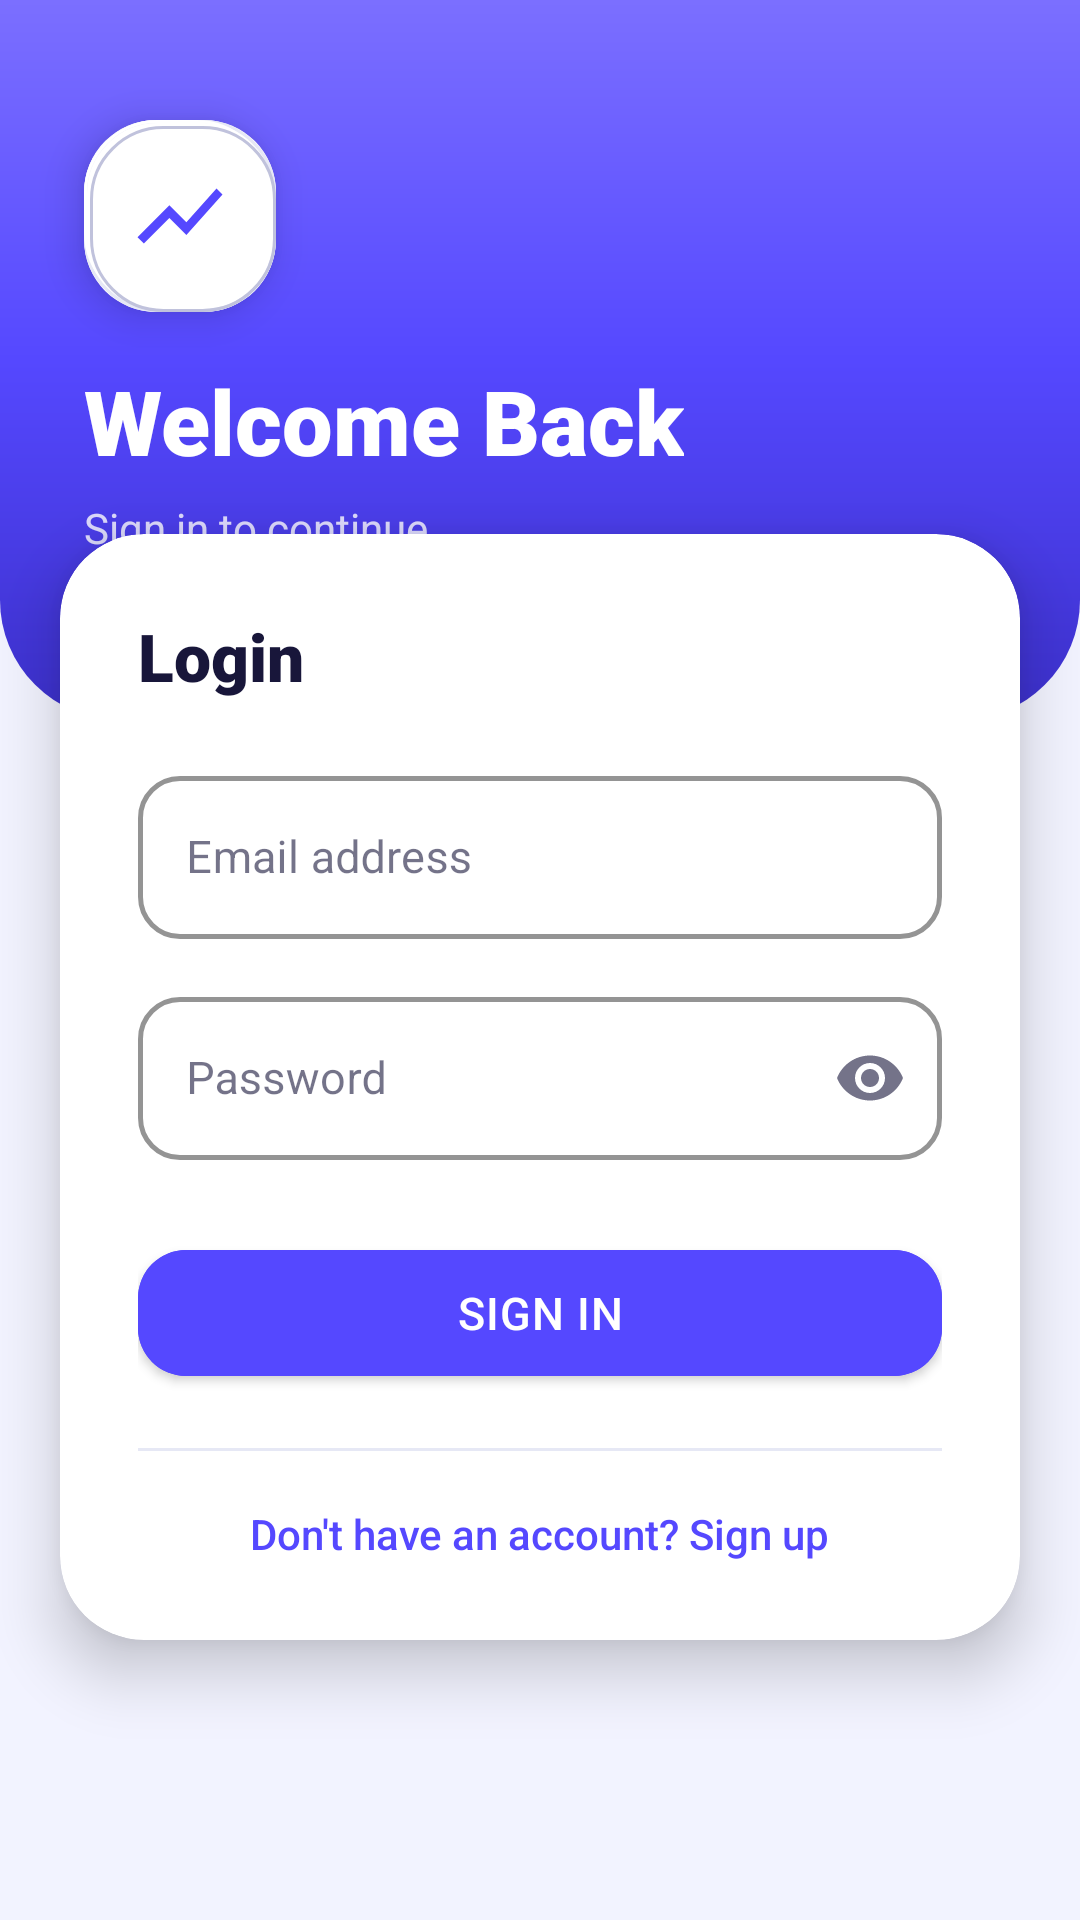

Where to tap for icons on this 1080x1920 app screen, as point (x, y):
chart: point (180, 216)
